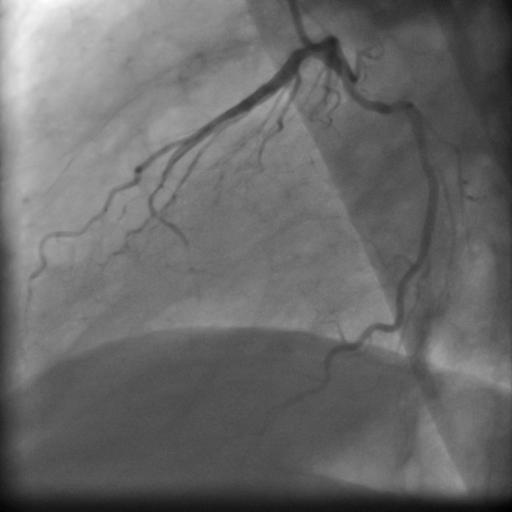Stenosis: (386, 92, 409, 123)
